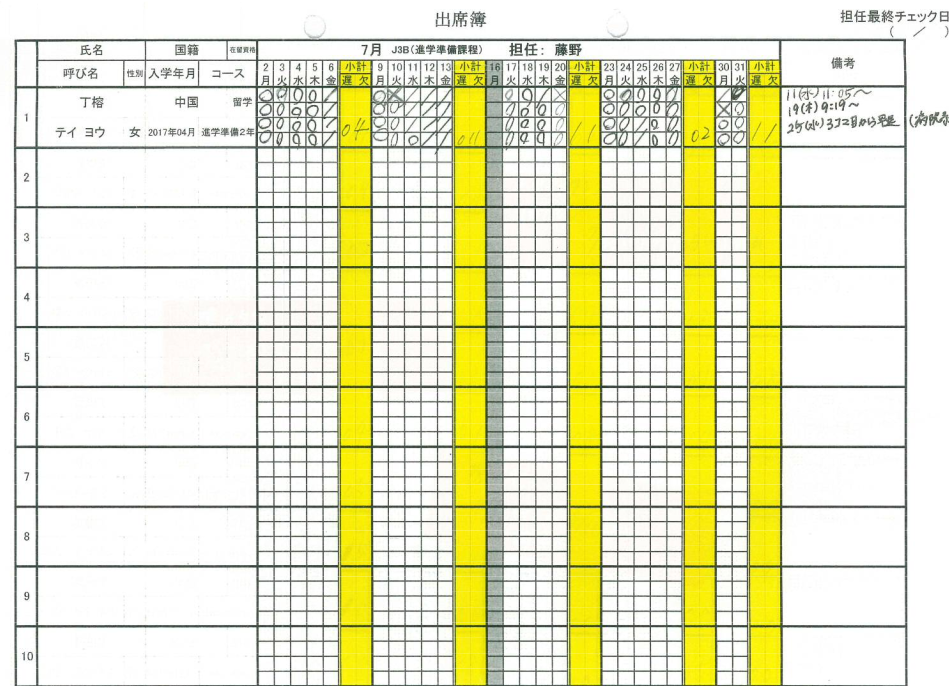/: (420, 130, 439, 146), (322, 101, 339, 117), (420, 86, 437, 102), (322, 86, 338, 102), (422, 117, 438, 133), (436, 87, 453, 102), (634, 132, 651, 147), (405, 116, 421, 131), (421, 101, 437, 116), (437, 102, 453, 117), (439, 132, 455, 147), (635, 117, 651, 132), (404, 87, 421, 101), (535, 87, 552, 101), (405, 102, 421, 116), (439, 116, 453, 132), (323, 116, 337, 131), (716, 87, 731, 101), (323, 132, 338, 145)
o: (257, 85, 275, 102), (599, 116, 617, 133), (650, 130, 667, 148), (306, 115, 323, 132), (387, 100, 404, 117), (257, 115, 273, 133), (403, 131, 422, 146), (274, 101, 290, 118), (290, 84, 307, 100), (290, 116, 307, 132), (651, 86, 667, 103), (373, 87, 389, 103), (502, 131, 518, 147), (535, 131, 551, 147), (601, 86, 617, 102), (601, 132, 617, 148), (651, 115, 667, 131), (274, 132, 291, 147), (289, 131, 306, 146), (518, 117, 535, 132), (518, 87, 535, 102), (535, 117, 552, 132), (667, 115, 682, 132), (306, 86, 322, 101), (389, 116, 404, 132), (504, 101, 519, 117), (665, 130, 681, 145), (731, 116, 746, 132), (552, 131, 566, 148), (616, 132, 633, 146), (633, 102, 650, 116), (667, 85, 681, 102), (731, 100, 745, 117), (715, 117, 732, 131), (518, 133, 536, 146), (290, 101, 305, 116), (602, 103, 617, 118), (617, 102, 632, 117), (733, 87, 748, 102), (257, 103, 273, 117), (274, 87, 290, 101), (717, 133, 733, 147), (274, 117, 289, 131), (307, 102, 322, 116), (373, 129, 388, 143), (504, 87, 519, 101), (503, 117, 518, 131), (520, 102, 535, 116), (536, 101, 551, 115), (554, 117, 568, 132), (617, 87, 632, 101), (634, 87, 649, 101), (650, 102, 665, 116), (666, 101, 681, 115), (257, 132, 273, 145), (307, 132, 321, 146), (389, 132, 403, 146), (618, 117, 632, 131), (373, 102, 386, 116), (553, 102, 566, 116), (733, 131, 746, 145), (373, 116, 388, 128)
x: (387, 86, 405, 103), (715, 100, 733, 117), (551, 86, 566, 103)
